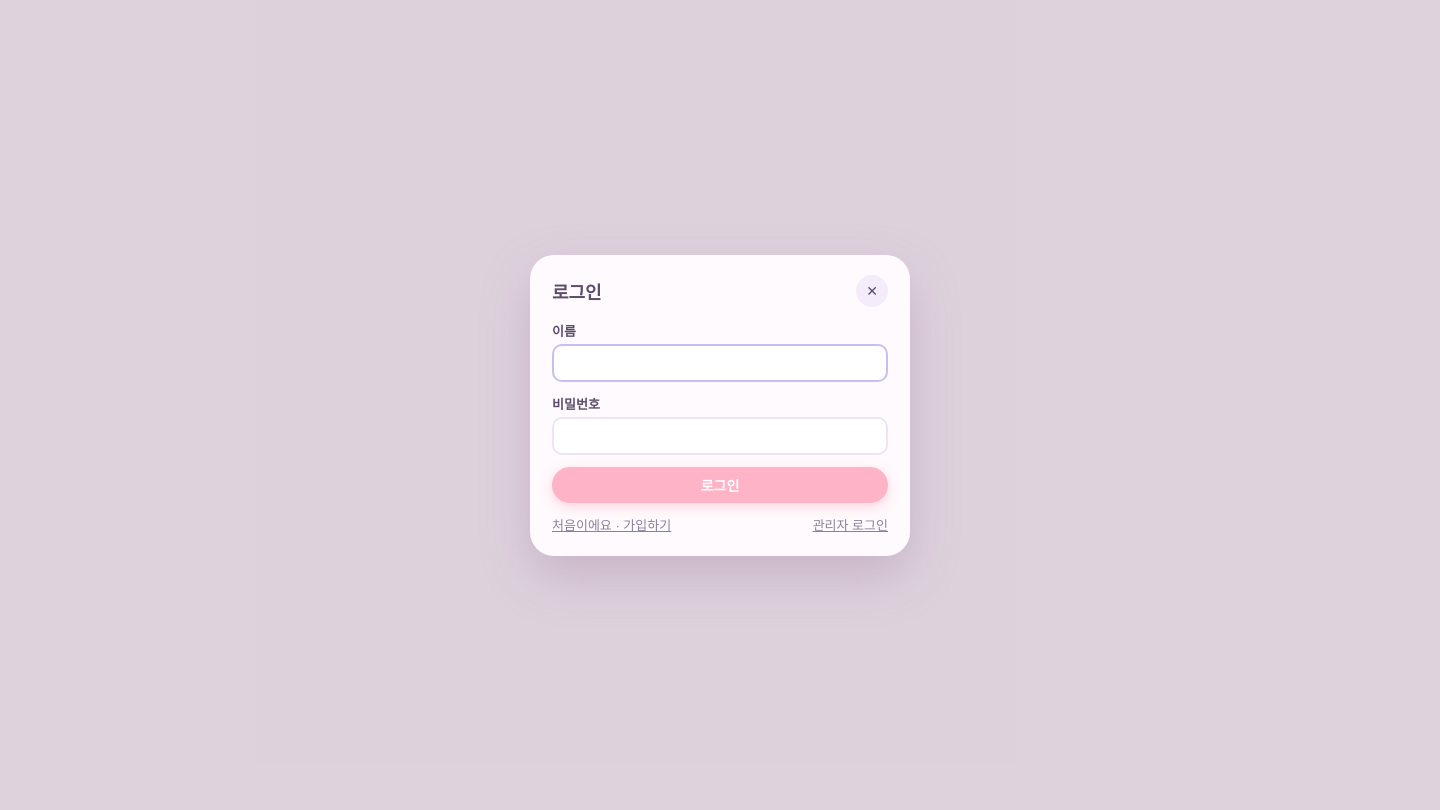
Test case: LoginForm › 비어 있으면 안내만 한다
This screenshot has width=1440, height=810.
Click the button "로그인".
click(720, 484)  # box [552, 466, 888, 502]
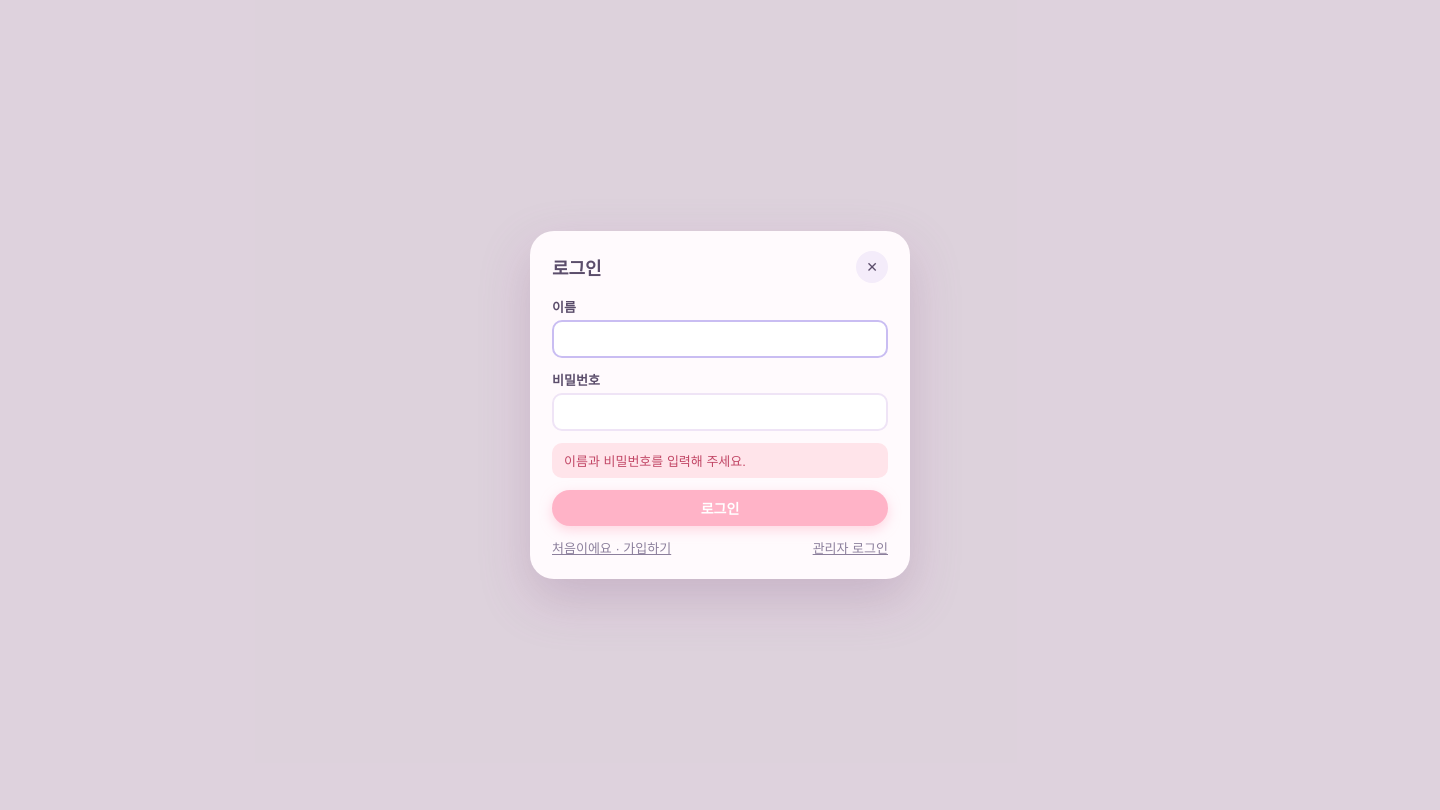
Expected: the message reads "이름과 비밀번호를 입력해 주세요.", [564, 454, 746, 469]
